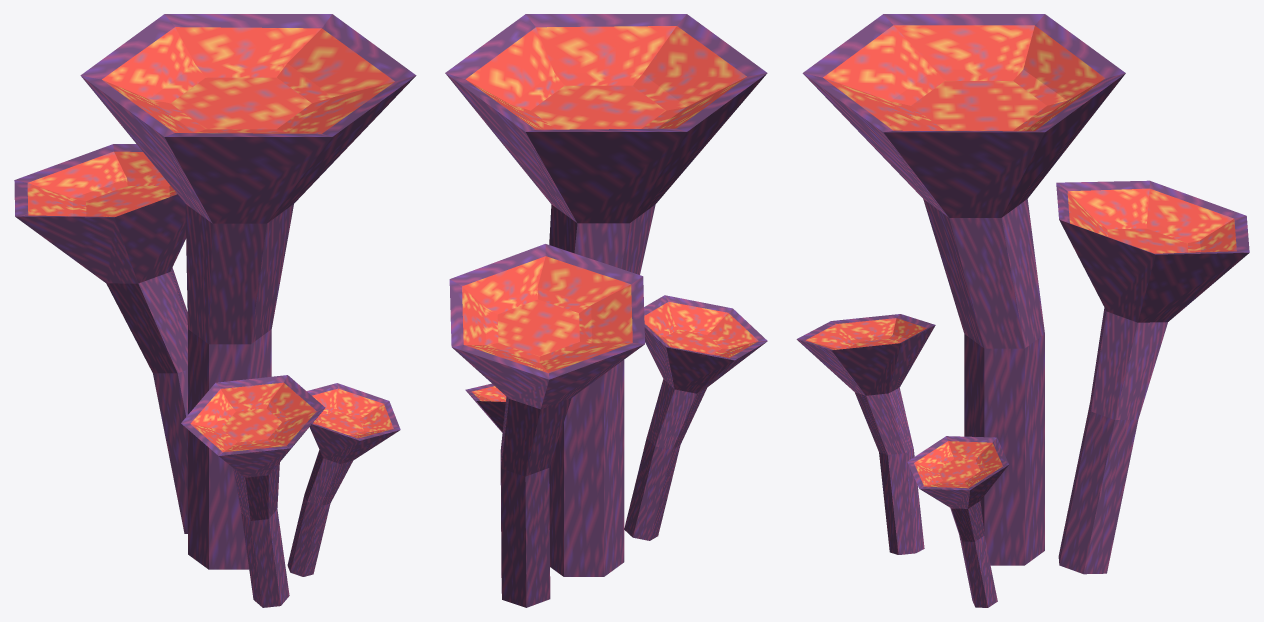
File: Mushroom_4.obj
3 renders of one model, left to right at view 1: azimuth 30°, elevation 25°; view 2: azimuth 150°, elevation 25°; view 3: azimuth 270°, elevation 25°, orthographic. The views are drawn at different scales.
Visible parts, largest first — view 1: _Shroom_4_Cylinder.021; view 2: _Shroom_4_Cylinder.021; view 3: _Shroom_4_Cylinder.021.
Boxes of the visible parts, bbox=[...] form: _Shroom_4_Cylinder.021: bbox=[14, 14, 416, 607]; _Shroom_4_Cylinder.021: bbox=[445, 14, 767, 607]; _Shroom_4_Cylinder.021: bbox=[796, 14, 1249, 607].
Bounding box in the file's own units: 0.7133 × 1.26 × 1.04.
